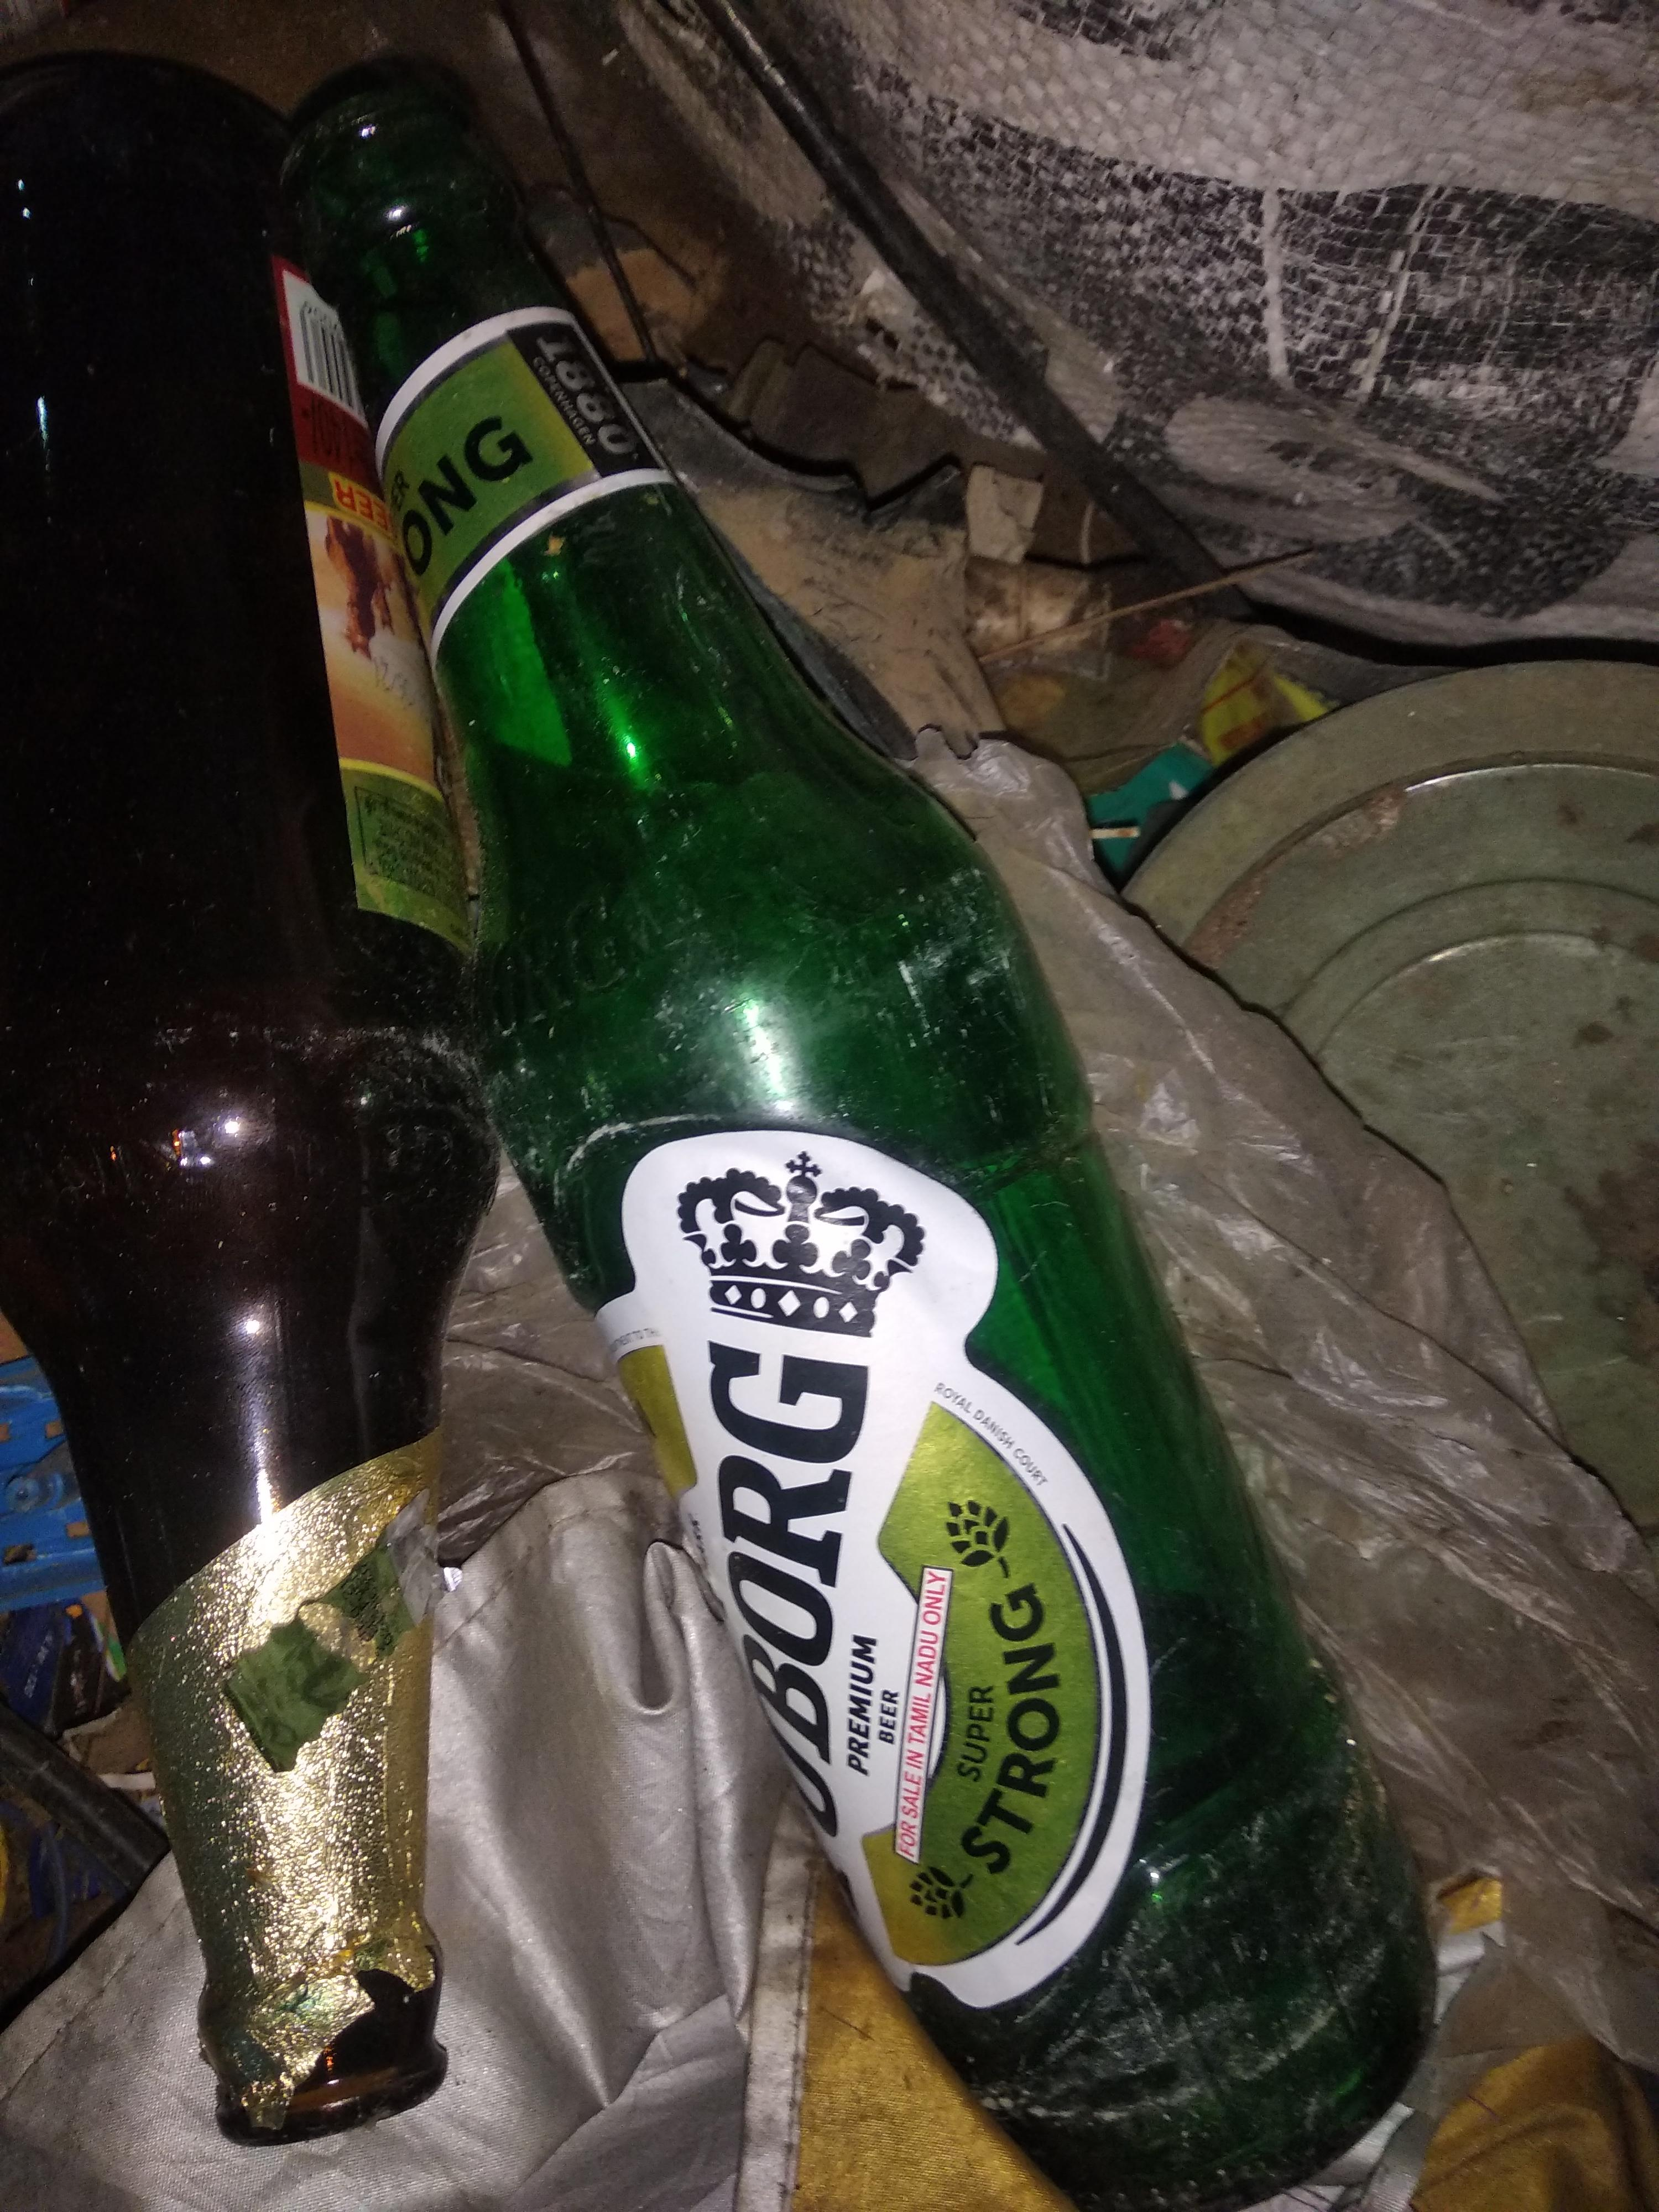organic: (0, 17, 1626, 2212)
